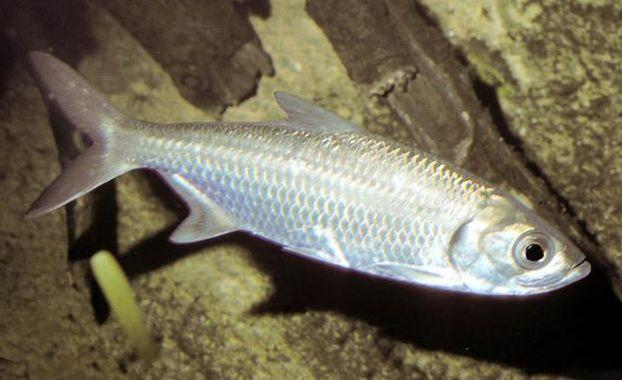Indo-Pacific Tarpon: (19, 40, 592, 305)
